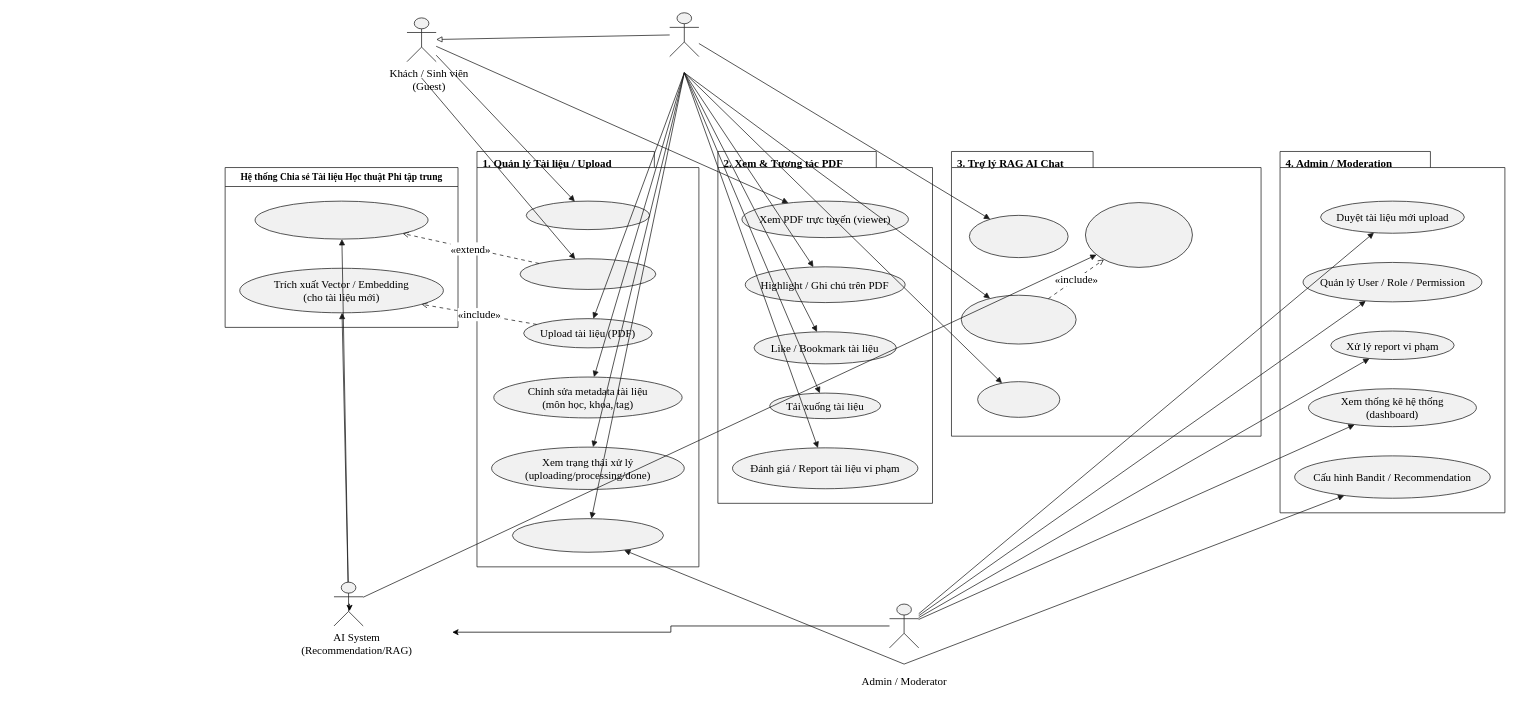
The diagram is 1518 pixels wide and 701 high, and some of its shapes have lost their labels. The centre of each missing label's shape, as x and y in pixels:
"Nhận câu trả lời + nguồn trích dẫn (sources)" belongs at point (1138, 234).
"Tìm kiếm & lọc tài liệu" belongs at point (587, 273).
"Tính điểm gợi ý tài liệu (Multi-Armed Bandit)" belongs at point (341, 219).
"Tạo phiên chat mới với AI" belongs at point (1018, 236).
"User đã xác thực (Authenticated User)" belongs at point (684, 34).
"Xem lại lịch sử chat" belongs at point (1018, 399).
"Xoá / Ẩn tài liệu của mình" belongs at point (587, 535).
"Đăng ký / Đăng nhập" belongs at point (588, 215).
"Đặt câu hỏi về nội dung tài liệu" belongs at point (1018, 319).
